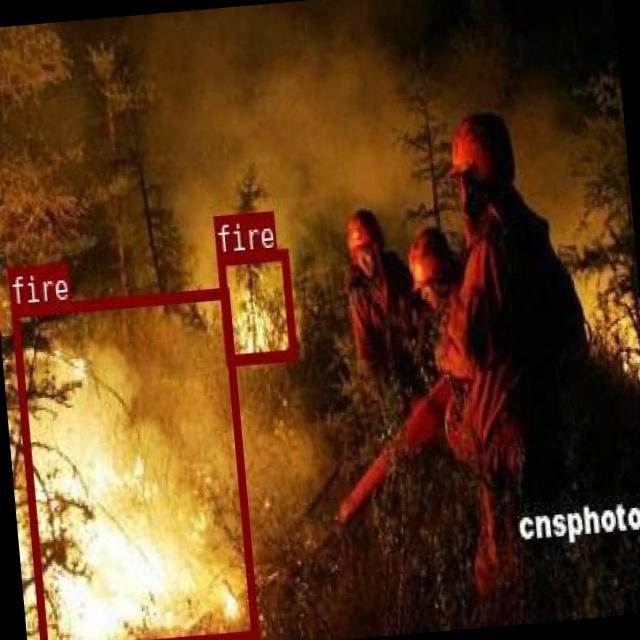fire: (9, 287, 257, 640), (216, 246, 295, 364)
